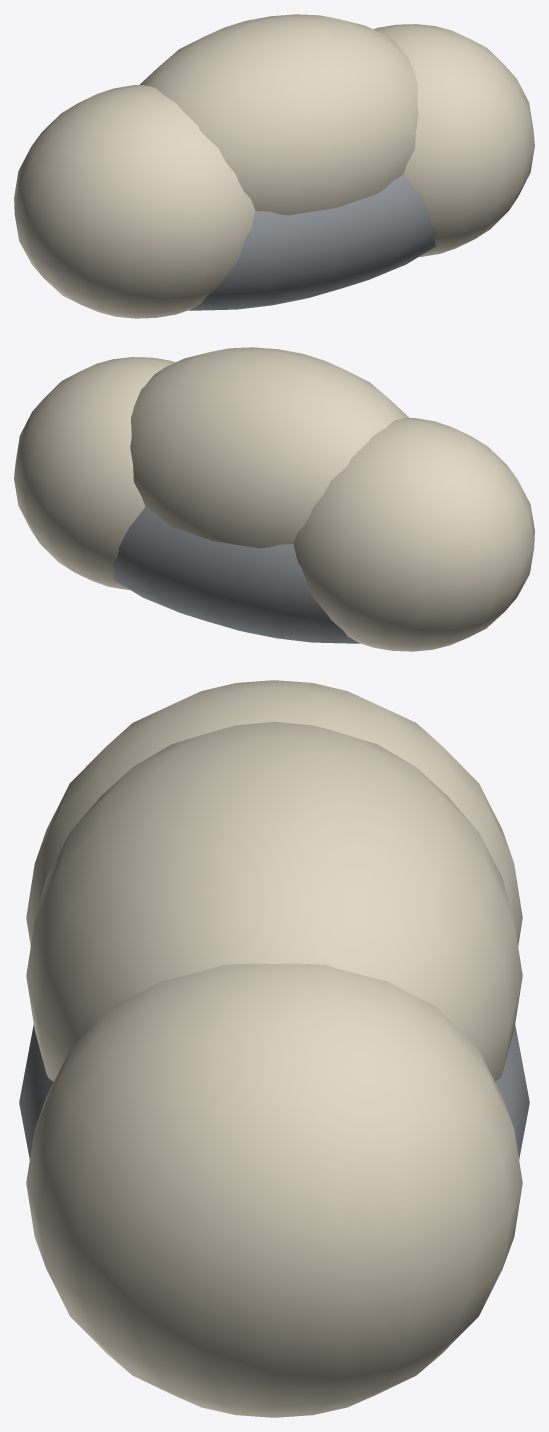
File: cloud_puff.glb
3 renders of one model, top to bottom at view 1: azimuth 30°, elevation 25°; view 2: azimuth 150°, elevation 25°; view 3: azimuth 270°, elevation 25°, orthographic. The views are drawn at different scales.
Parts seen in each view (by area): view 1: cloud_puff_root; view 2: cloud_puff_root; view 3: cloud_puff_root.
Boxes of the visible parts, left/top/right/bottom form: cloud_puff_root: left=14, top=14, right=534, bottom=318; cloud_puff_root: left=14, top=347, right=534, bottom=651; cloud_puff_root: left=19, top=680, right=529, bottom=1417.
Bounding box in the file's own units: 4 × 2 × 1.8.
